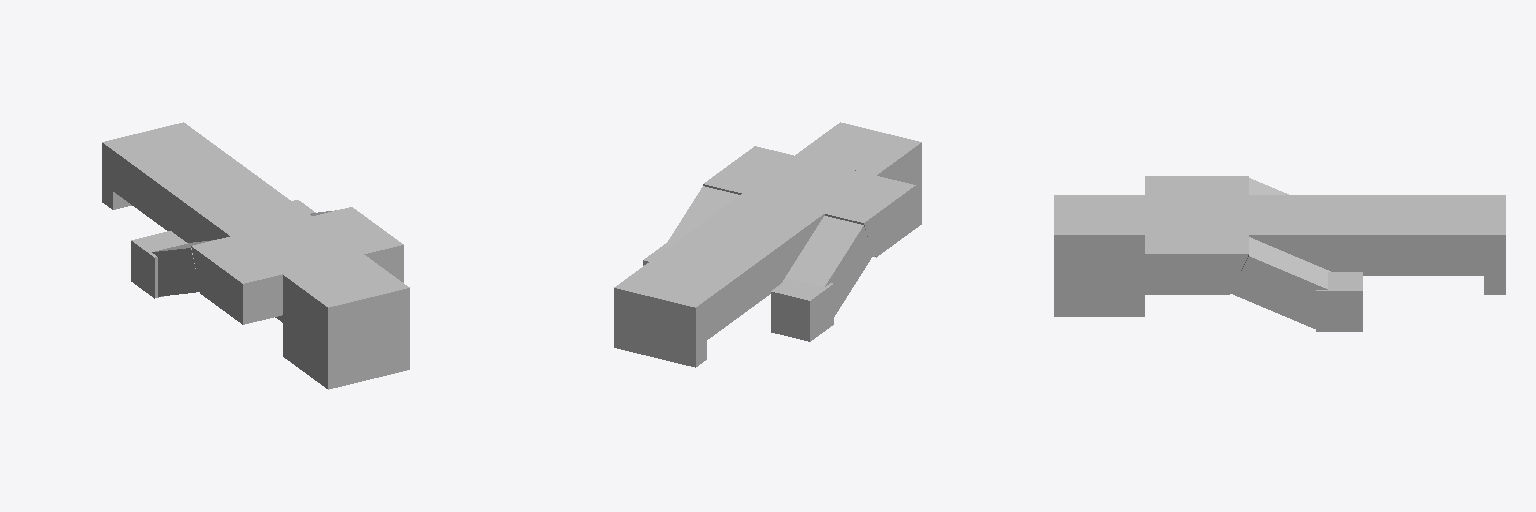
File: Boss9_Mesh.obj
3 renders of one model, left to right at view 1: azimuth 30°, elevation 25°; view 2: azimuth 150°, elevation 25°; view 3: azimuth 270°, elevation 25°, orthographic.
Parts seen in each view (by area): view 1: Boss9_Mesh_0; view 2: Boss9_Mesh_0; view 3: Boss9_Mesh_0.
Boxes of the visible parts, box(x1,y1,x2,y2) form: Boss9_Mesh_0: box(102, 122, 409, 389); Boss9_Mesh_0: box(614, 122, 921, 367); Boss9_Mesh_0: box(1054, 176, 1505, 331).
Size of the model in its own units: 1.06 by 0.4983 by 2.49.